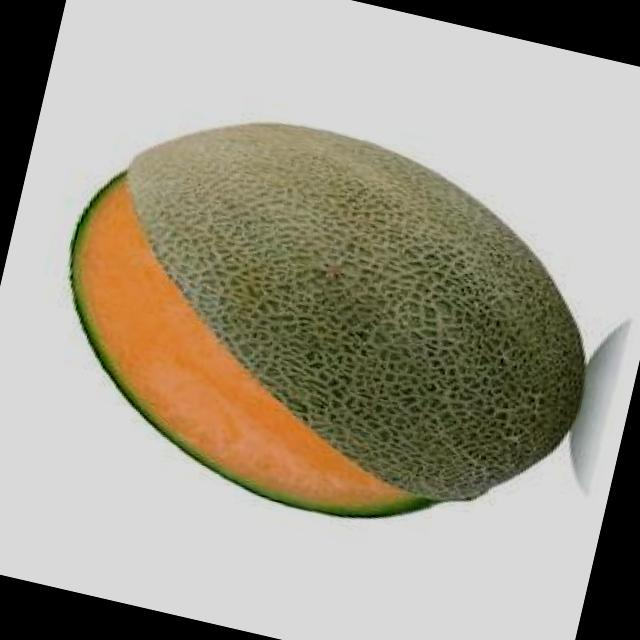cantaloupe: (23, 79, 624, 563)
